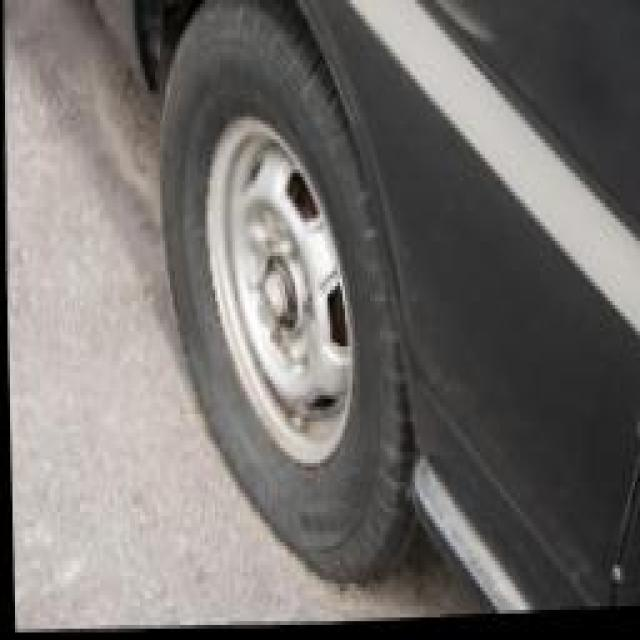Door: (355, 422, 586, 624)
